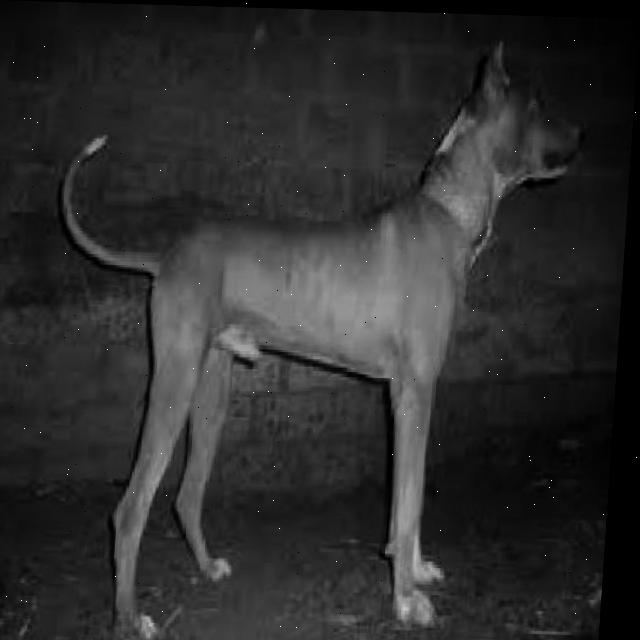Dog: (19, 25, 599, 640)
